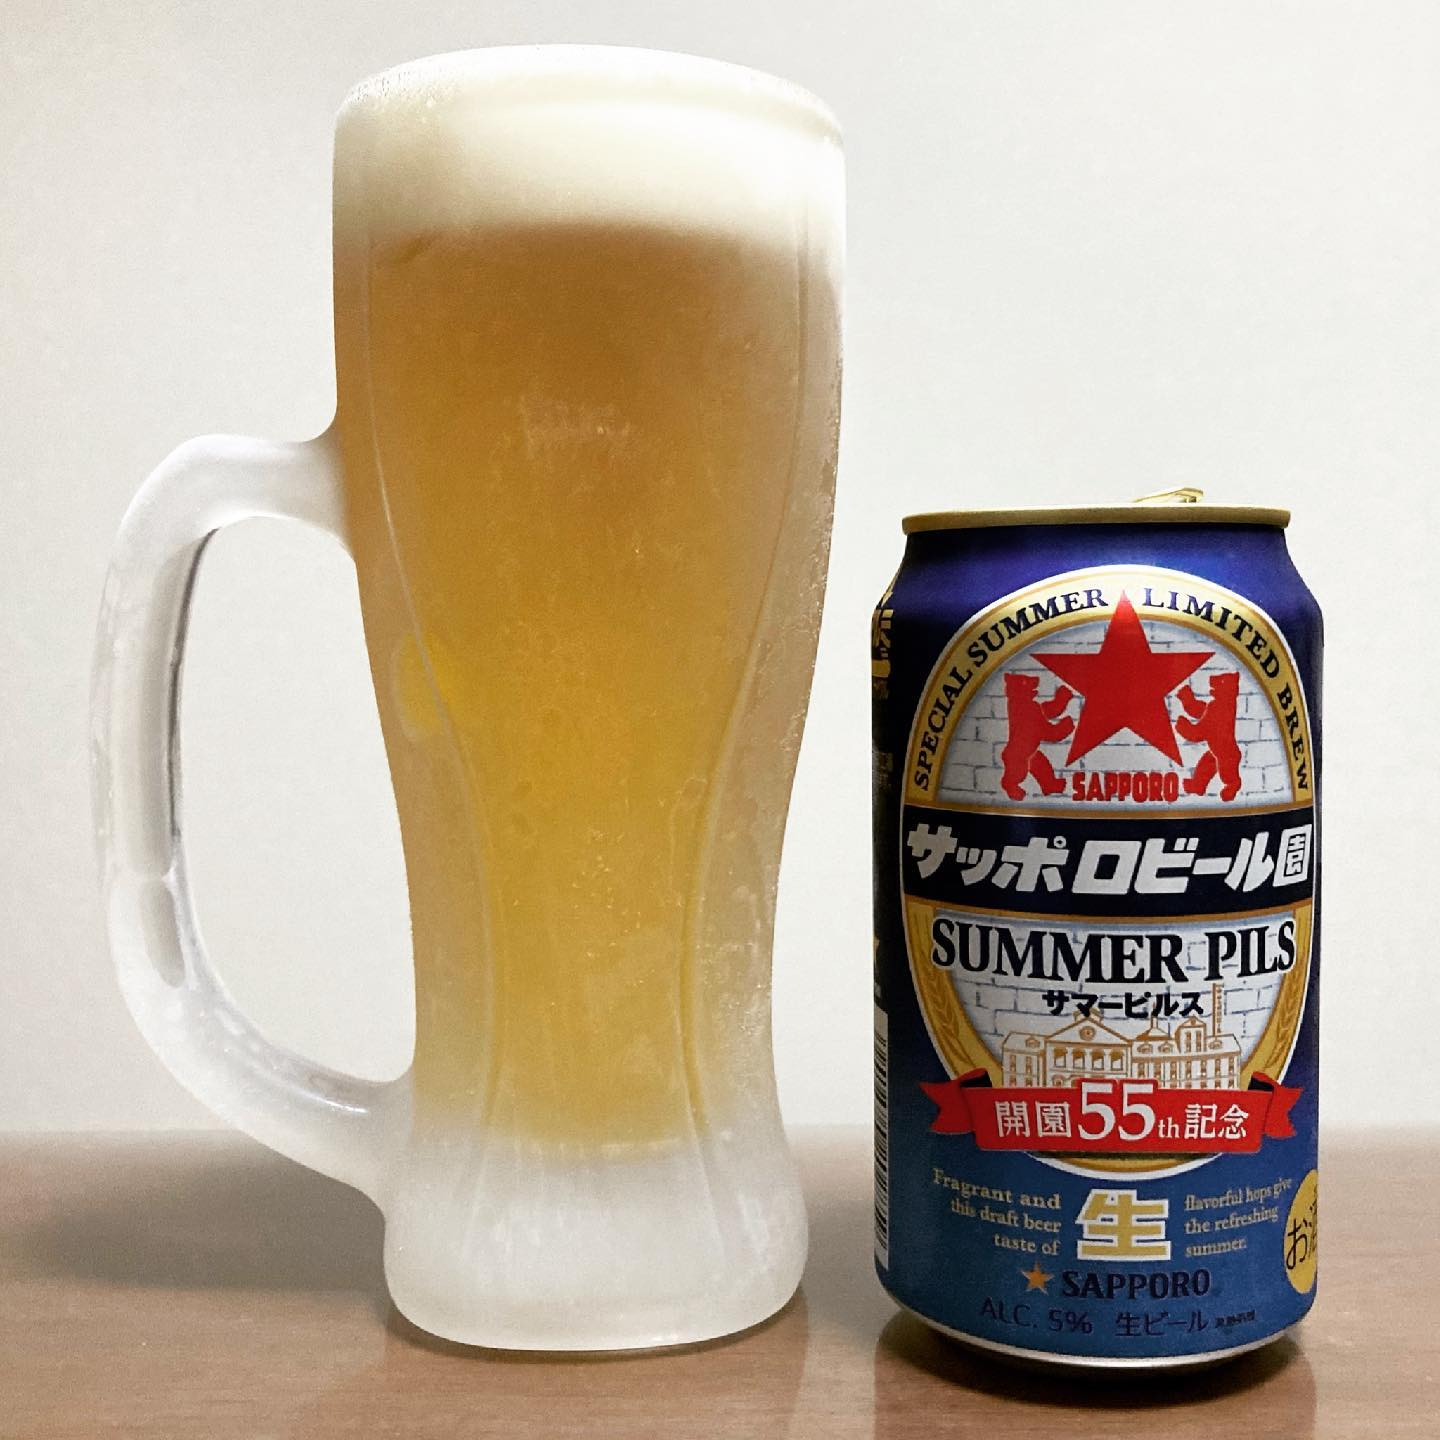alcohol: (319, 34, 855, 1371), (862, 479, 1331, 1383)
